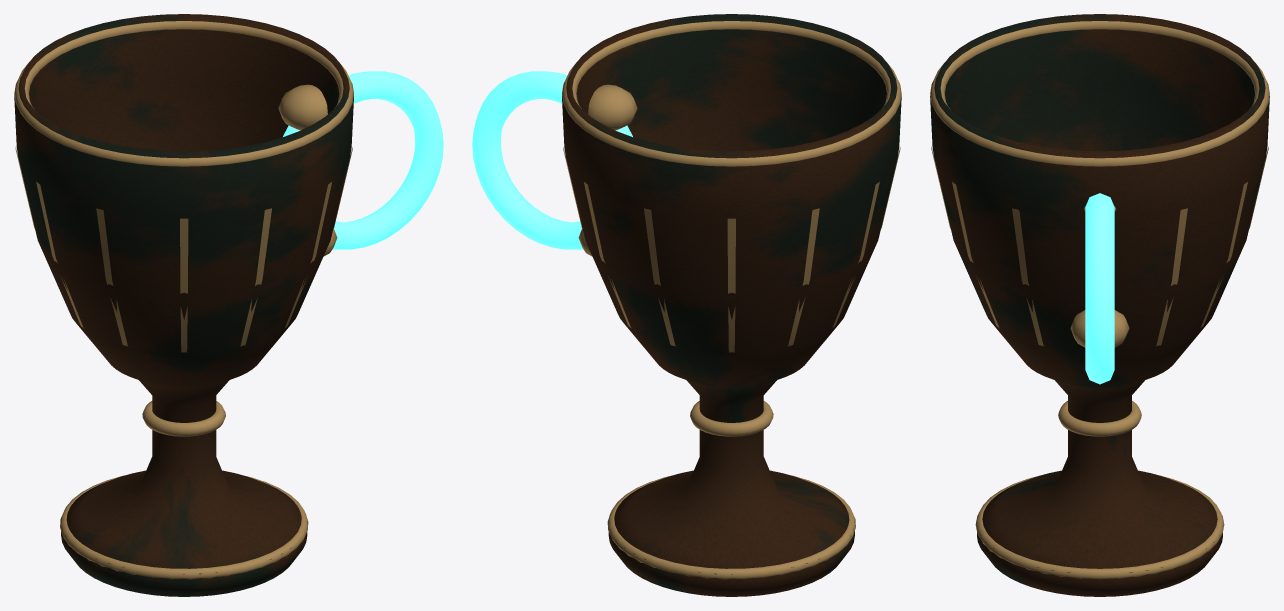
Rendered from cup.fbx.
The picture shows the model from 3 angles, left to right: view 1: azimuth 30°, elevation 25°; view 2: azimuth 150°, elevation 25°; view 3: azimuth 270°, elevation 25°; orthographic projection.
Parts seen in each view (by area): view 1: Reviewed_cup_Body.066, TH_S_Cup_Handle.066; view 2: Reviewed_cup_Body.066, TH_S_Cup_Handle.066; view 3: Reviewed_cup_Body.066, TH_S_Cup_Handle.066.
Part boxes in pixels (bbox=[...]): Reviewed_cup_Body.066: bbox=[14, 14, 353, 596]; TH_S_Cup_Handle.066: bbox=[283, 71, 443, 249]; Reviewed_cup_Body.066: bbox=[562, 14, 901, 596]; TH_S_Cup_Handle.066: bbox=[472, 71, 632, 249]; Reviewed_cup_Body.066: bbox=[930, 14, 1269, 596]; TH_S_Cup_Handle.066: bbox=[1085, 193, 1114, 384].
Bounding box in the file's own units: 0.19 × 0.209 × 0.138.
Materials: 3 (1 with a texture image).
